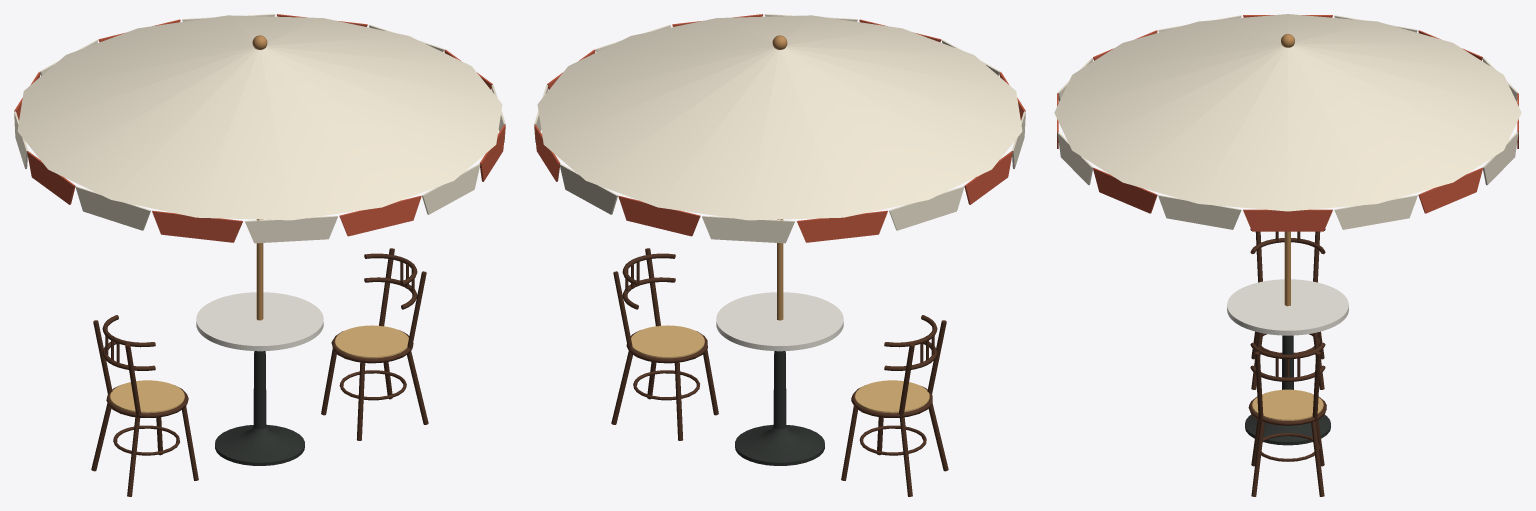
File: bistro-set.glb
3 views of the same model, side by side, from view 1: azimuth 30°, elevation 25°; view 2: azimuth 150°, elevation 25°; view 3: azimuth 270°, elevation 25° (orthographic). The views are drawn at different scales.
Visible parts, largest first — view 1: canvas5, marble3, iron0, rattan13, canvas8_8, stripe6_8, rattan28, stripe6_1, canvas8_7, canvas8_1, stripe6_7, iron1 (+5 smaller); view 2: canvas5, marble3, iron0, rattan13, canvas8_5, stripe6_6, rattan28, stripe6_5, canvas8_6, canvas8_4, stripe6_7, iron1 (+5 smaller); view 3: canvas5, marble3, stripe6_3, canvas8_2, canvas8_3, rattan13, iron0, stripe6_2, stripe6_4, canvas8_1, canvas8_4, iron1 (+1 smaller).
Boxes of the visible parts, bbox=[...] form: canvas5: bbox=[17, 15, 502, 220]; marble3: bbox=[196, 292, 323, 351]; iron0: bbox=[215, 424, 304, 465]; rattan13: bbox=[335, 325, 408, 358]; canvas8_8: bbox=[244, 216, 337, 243]; stripe6_8: bbox=[152, 210, 242, 242]; rattan28: bbox=[110, 380, 184, 413]; stripe6_1: bbox=[339, 196, 421, 236]; canvas8_7: bbox=[75, 186, 150, 230]; canvas8_1: bbox=[421, 164, 480, 214]; stripe6_7: bbox=[27, 151, 75, 204]; iron1: bbox=[253, 351, 266, 429]; canvas5: bbox=[537, 15, 1022, 220]; marble3: bbox=[716, 292, 843, 351]; iron0: bbox=[735, 424, 824, 465]; rattan13: bbox=[631, 325, 704, 358]; canvas8_5: bbox=[702, 216, 795, 243]; stripe6_6: bbox=[797, 210, 887, 242]; rattan28: bbox=[855, 380, 929, 413]; stripe6_5: bbox=[618, 196, 700, 236]; canvas8_6: bbox=[889, 186, 964, 230]; canvas8_4: bbox=[559, 164, 618, 214]; stripe6_7: bbox=[964, 151, 1012, 204]; iron1: bbox=[773, 351, 786, 429]; canvas5: bbox=[1054, 14, 1521, 211]; marble3: bbox=[1227, 279, 1348, 335]; stripe6_3: bbox=[1243, 209, 1332, 231]; canvas8_2: bbox=[1158, 195, 1241, 229]; canvas8_3: bbox=[1334, 195, 1417, 229]; rattan13: bbox=[1252, 389, 1323, 420]; iron0: bbox=[1245, 414, 1330, 445]; stripe6_2: bbox=[1093, 168, 1157, 213]; stripe6_4: bbox=[1418, 168, 1482, 213]; canvas8_1: bbox=[1057, 132, 1093, 185]; canvas8_4: bbox=[1482, 132, 1518, 185]; iron1: bbox=[1282, 335, 1293, 389].
Bounding box in the file's own units: 2.6 × 2.41 × 2.6.
